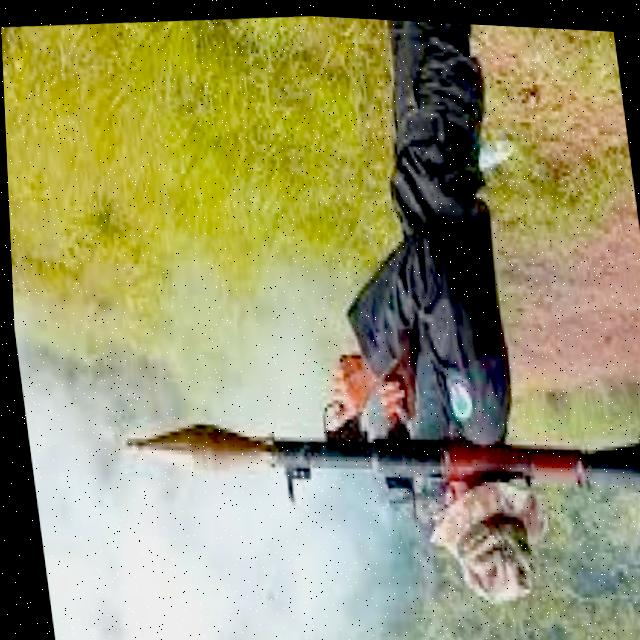rocket: (110, 376, 640, 545)
